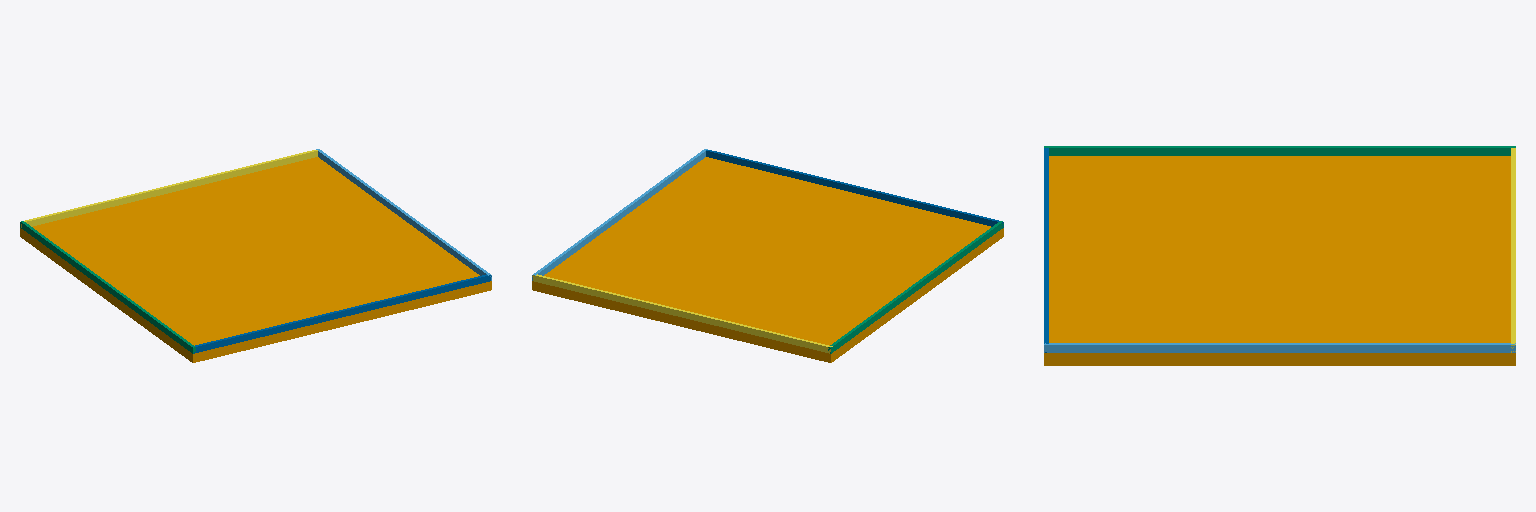
URDF robot description (bordered_plate_model):
<?xml version="1.0" ?>
<!-- =================================================================================== -->
<!-- |    This document was autogenerated by xacro from /home/gepetto/ros2_ws/install/agimus_demo_09_glue_spreading/share/agimus_demo_09_glue_spreading/urdf/plate.urdf.xacro | -->
<!-- |    EDITING THIS FILE BY HAND IS NOT RECOMMENDED                                 | -->
<!-- =================================================================================== -->
<robot name="bordered_plate_model">
  <!-- Épaisseur de la plaque -->
  <!-- Épaisseur des bordures -->
  <!-- Matériaux pour les couleurs -->
  <!-- Le maillon de base (la surface de la plaque) -->
  <link name="plate_base_link">
    <visual>
      <geometry>
        <box size="1.0 1.0 0.03"/>
      </geometry>
      <material name="grey"/>
    </visual>
    <collision>
      <geometry>
        <box size="1.0 1.0 0.03"/>
      </geometry>
    </collision>
  </link>
  <!-- Instantiation des 4 bordures en appelant la macro single_border -->
  <link name="plate_border_front">
    <visual>
      <material name="dark_grey"/>
      <geometry>
        <box size="0.01 1.0 0.02"/>
      </geometry>
    </visual>
    <collision>
      <geometry>
        <box size="0.01 1.0 0.02"/>
      </geometry>
    </collision>
  </link>
  <joint name="plate_border_front_joint" type="fixed">
    <parent link="plate_base_link"/>
    <child link="plate_border_front"/>
    <origin rpy="0 0 0" xyz="0.495 0 0.025"/>
  </joint>
  <link name="plate_border_back">
    <visual>
      <material name="dark_grey"/>
      <geometry>
        <box size="0.01 1.0 0.02"/>
      </geometry>
    </visual>
    <collision>
      <geometry>
        <box size="0.01 1.0 0.02"/>
      </geometry>
    </collision>
  </link>
  <joint name="plate_border_back_joint" type="fixed">
    <parent link="plate_base_link"/>
    <child link="plate_border_back"/>
    <origin rpy="0 0 0" xyz="-0.495 0 0.025"/>
  </joint>
  <link name="plate_border_left">
    <visual>
      <material name="dark_grey"/>
      <geometry>
        <box size="1.0 0.01 0.02"/>
      </geometry>
    </visual>
    <collision>
      <geometry>
        <box size="1.0 0.01 0.02"/>
      </geometry>
    </collision>
  </link>
  <joint name="plate_border_left_joint" type="fixed">
    <parent link="plate_base_link"/>
    <child link="plate_border_left"/>
    <origin rpy="0 0 0" xyz="0 0.495 0.025"/>
  </joint>
  <link name="plate_border_right">
    <visual>
      <material name="dark_grey"/>
      <geometry>
        <box size="1.0 0.01 0.02"/>
      </geometry>
    </visual>
    <collision>
      <geometry>
        <box size="1.0 0.01 0.02"/>
      </geometry>
    </collision>
  </link>
  <joint name="plate_border_right_joint" type="fixed">
    <parent link="plate_base_link"/>
    <child link="plate_border_right"/>
    <origin rpy="0 0 0" xyz="0 -0.495 0.025"/>
  </joint>
</robot>

--- Facts derived from the render (not from the file) ---
The picture shows the robot from 3 angles, left to right: view 1: azimuth 30°, elevation 25°; view 2: azimuth 150°, elevation 25°; view 3: azimuth 270°, elevation 25°; orthographic projection.
Robot: bordered_plate_model — 5 links, 4 joints (4 fixed); root link plate_base_link; default pose: every joint at zero.
Visible links, largest first — view 1: plate_base_link, plate_border_right, plate_border_left, plate_border_back, plate_border_front; view 2: plate_base_link, plate_border_left, plate_border_right, plate_border_back, plate_border_front; view 3: plate_base_link, plate_border_front, plate_border_back, plate_border_left, plate_border_right.
Link boxes in pixels (<box>): plate_base_link: <box>20,157,491,362</box>; plate_border_right: <box>192,274,491,353</box>; plate_border_left: <box>21,150,317,227</box>; plate_border_back: <box>20,221,195,353</box>; plate_border_front: <box>316,149,491,280</box>; plate_base_link: <box>532,157,1003,362</box>; plate_border_left: <box>532,274,832,353</box>; plate_border_right: <box>706,150,1003,227</box>; plate_border_back: <box>828,221,1003,353</box>; plate_border_front: <box>532,149,707,280</box>; plate_base_link: <box>1044,156,1515,365</box>; plate_border_front: <box>1044,343,1515,352</box>; plate_border_back: <box>1044,146,1515,155</box>; plate_border_left: <box>1511,148,1515,352</box>; plate_border_right: <box>1044,148,1048,352</box>.
Bounding box of the posed robot: 1 × 1 × 0.05 m (x, y, z).
Geometry: primitives only (box / cylinder / sphere), no mesh files.
